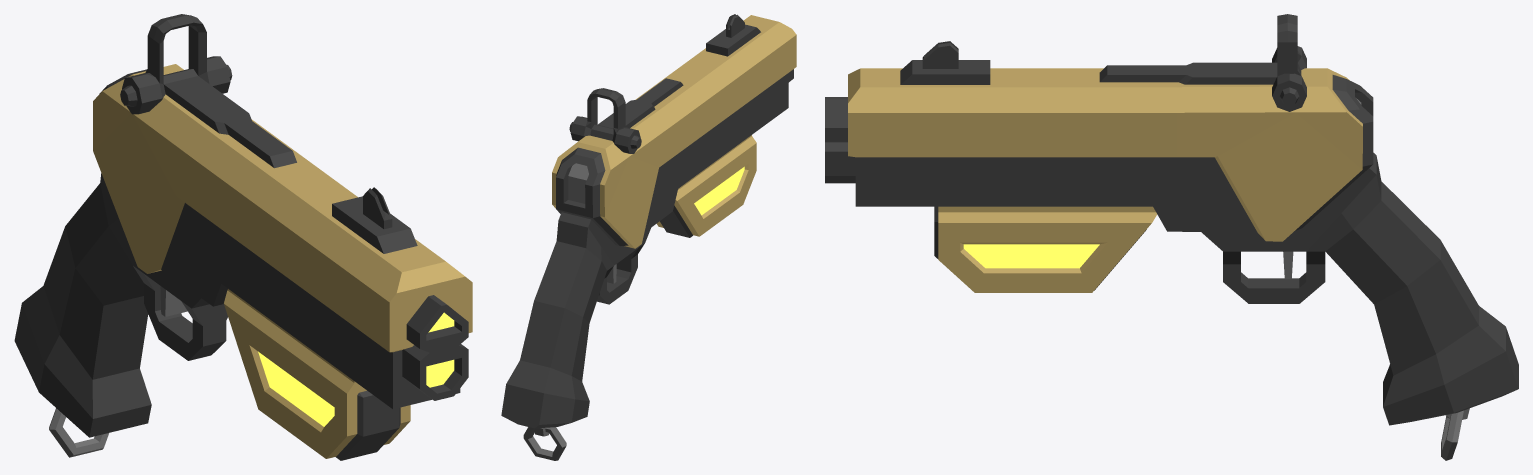
File: handgun.glb
The picture shows the model from 3 angles, left to right: view 1: azimuth 30°, elevation 25°; view 2: azimuth 150°, elevation 25°; view 3: azimuth 270°, elevation 25°; orthographic projection. The views are drawn at different scales.
Visible parts, largest first — view 1: Handgun; view 2: Handgun; view 3: Handgun.
Boxes of the visible parts, x1,y1,x2,y2 form: Handgun: (14,14,472,460); Handgun: (501,14,796,460); Handgun: (825,14,1518,460).
Size of the model in its own units: 0.5085 by 2.36 by 3.4.
